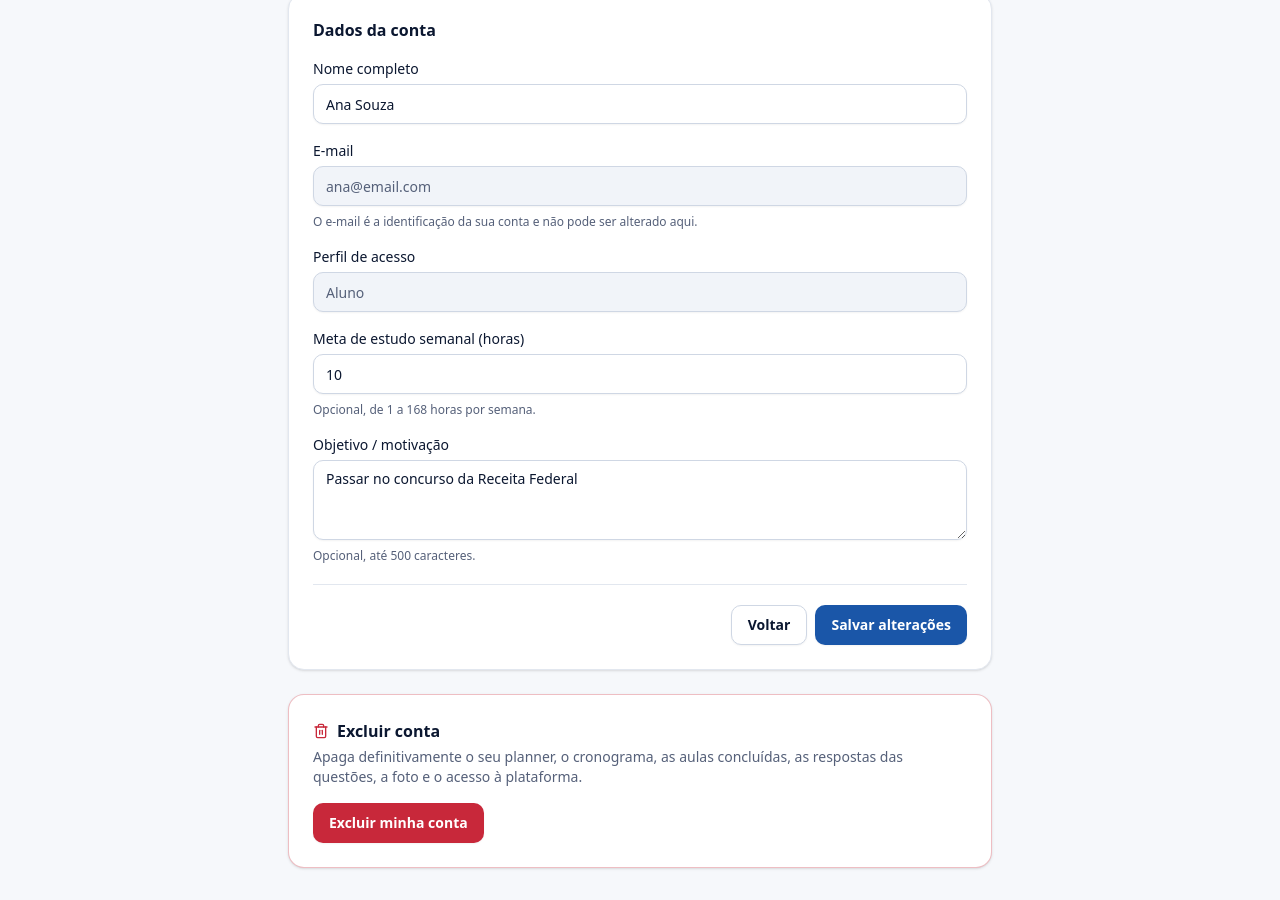
Test: TelaPerfil › exibe o erro por campo devolvido pela API
(page scrolled)
expect the field labelled "Nome completo" is shown: met, box x1=313 y1=84 x2=967 y2=124
Step 1. Click the button "Salvar alterações" → (891, 625), box x1=815 y1=605 x2=967 y2=645
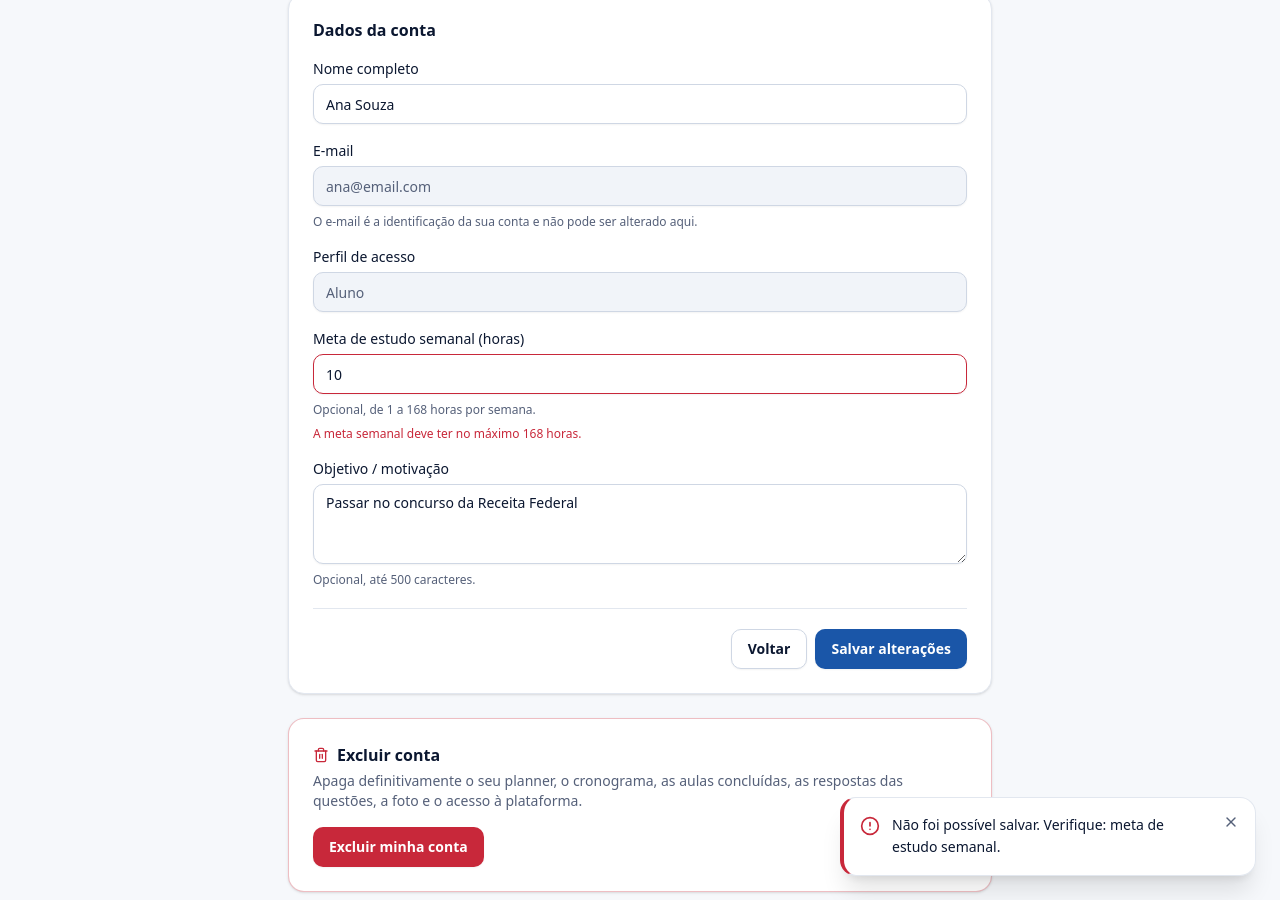
expect the text "A meta semanal deve ter no máximo 168 horas." is shown: met, box x1=313 y1=425 x2=582 y2=442
expect the text "Não foi possível salvar. Verifique: meta de estudo semanal." is shown: met, box x1=892 y1=814 x2=1211 y2=859
